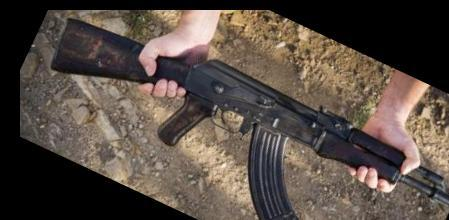larga: (50, 17, 449, 220)
